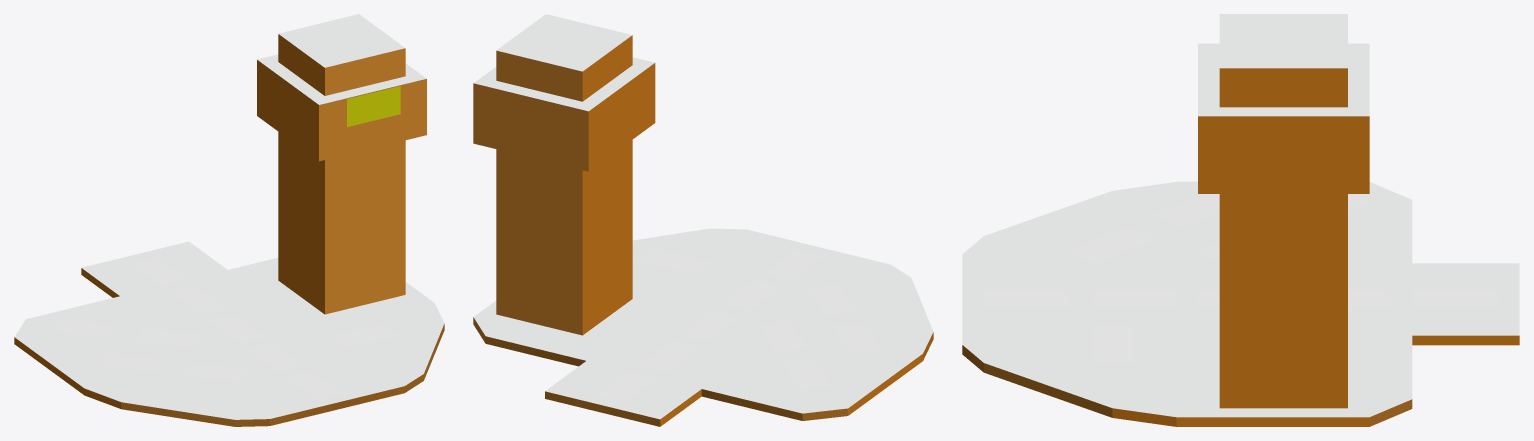
The model's file is Airport.AmberBlaze.Snow.glb.
3 renders of one model, left to right at view 1: azimuth 30°, elevation 25°; view 2: azimuth 150°, elevation 25°; view 3: azimuth 270°, elevation 25°, orthographic. The views are drawn at different scales.
Visible parts, largest first — view 1: Airport.AmberBlaze.Snow; view 2: Airport.AmberBlaze.Snow; view 3: Airport.AmberBlaze.Snow.
Part boxes in pixels (left/top/right/bottom): Airport.AmberBlaze.Snow: left=14, top=14, right=444, bottom=426; Airport.AmberBlaze.Snow: left=473, top=14, right=933, bottom=426; Airport.AmberBlaze.Snow: left=962, top=14, right=1519, bottom=426.
Size of the model in its own units: 2.6 by 1.8 by 2.6.
2 materials, 1 textured.
